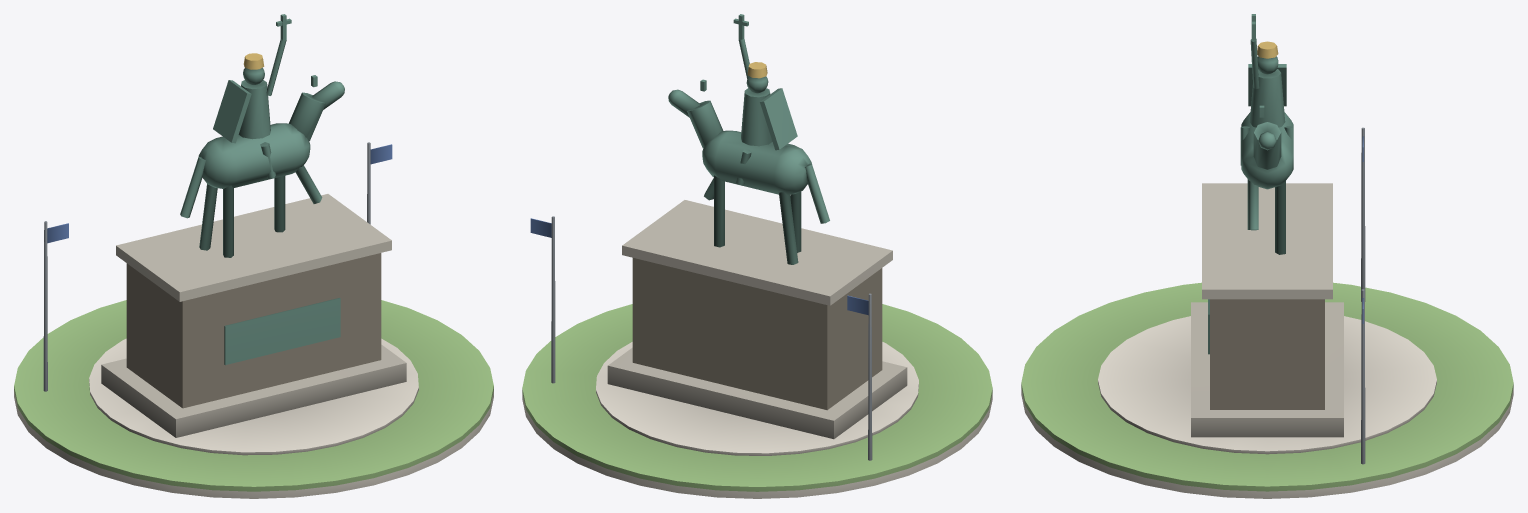
File: vaslui.glb
3 renders of one model, left to right at view 1: azimuth 30°, elevation 25°; view 2: azimuth 150°, elevation 25°; view 3: azimuth 270°, elevation 25°, orthographic. The views are drawn at different scales.
Parts seen in each view (by area): view 1: vaslui_grass, vaslui_stoneGray, vaslui_stone, vaslui_bronze, vaslui_stoneLight, vaslui_metal, vaslui_blue; view 2: vaslui_grass, vaslui_stone, vaslui_stoneGray, vaslui_stoneLight, vaslui_bronze, vaslui_metal, vaslui_blue; view 3: vaslui_grass, vaslui_stoneLight, vaslui_stoneGray, vaslui_stone, vaslui_bronze, vaslui_metal.
Part boxes in pixels (x1=…): vaslui_grass: x1=14, y1=300, x2=493, y2=491; vaslui_stoneGray: x1=101, y1=194, x2=406, y2=437; vaslui_stone: x1=126, y1=253, x2=381, y2=408; vaslui_bronze: x1=180, y1=14, x2=344, y2=365; vaslui_stoneLight: x1=14, y1=338, x2=493, y2=498; vaslui_metal: x1=43, y1=142, x2=370, y2=391; vaslui_blue: x1=47, y1=144, x2=392, y2=243; vaslui_grass: x1=522, y1=304, x2=992, y2=491; vaslui_stone: x1=632, y1=258, x2=882, y2=410; vaslui_stoneGray: x1=607, y1=200, x2=907, y2=439; vaslui_stoneLight: x1=522, y1=342, x2=992, y2=498; vaslui_bronze: x1=668, y1=14, x2=829, y2=264; vaslui_metal: x1=551, y1=216, x2=872, y2=460; vaslui_blue: x1=530, y1=218, x2=868, y2=315; vaslui_grass: x1=1021, y1=282, x2=1513, y2=491; vaslui_stoneLight: x1=1021, y1=316, x2=1513, y2=498; vaslui_stoneGray: x1=1191, y1=183, x2=1343, y2=437; vaslui_stone: x1=1210, y1=299, x2=1324, y2=409; vaslui_bronze: x1=1208, y1=14, x2=1293, y2=354; vaslui_metal: x1=1361, y1=127, x2=1365, y2=464.
Size of the model in its own units: 1.8 by 1.58 by 1.8.
